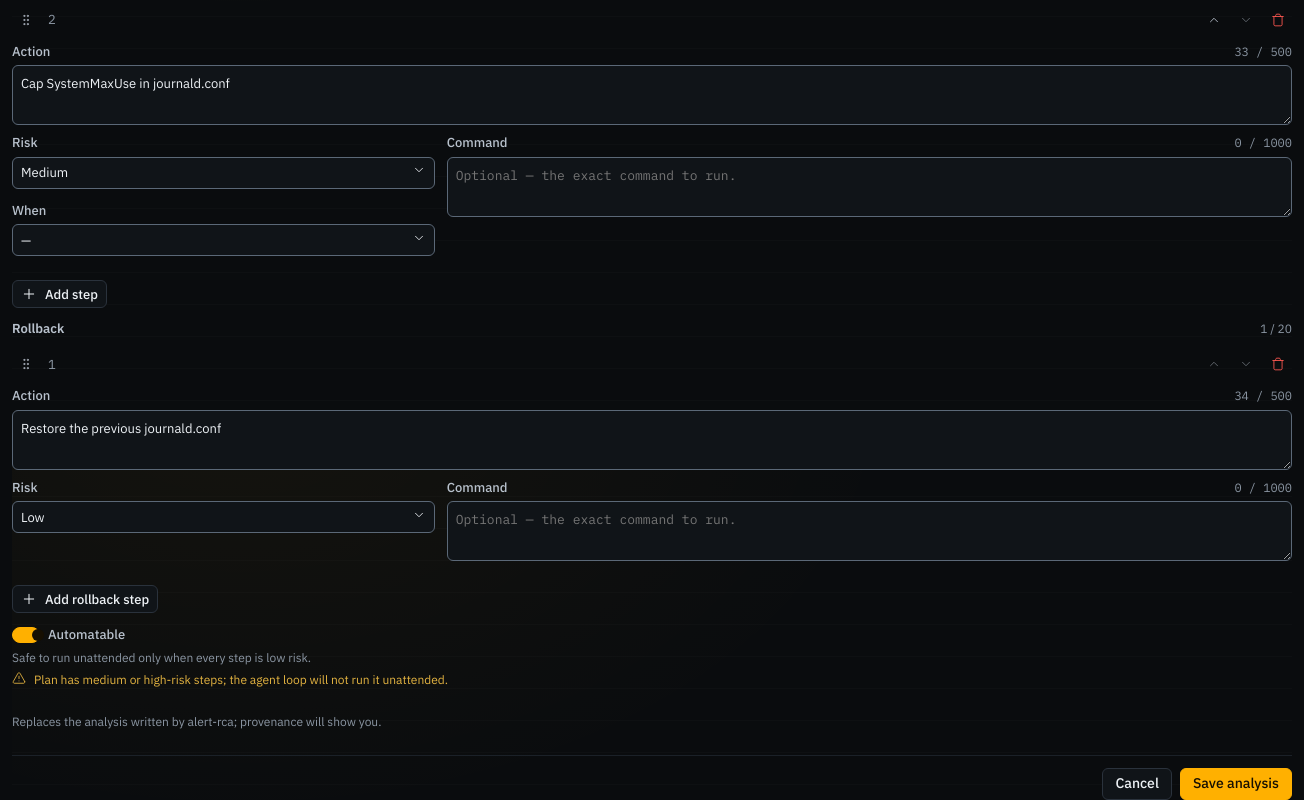
Scenario: AnalysisEditor › names a deleted alert rather than blaming the form
(page scrolled)
What coordinates should you click on to do the following:
click the button "Save analysis"
I would click on:
 (1236, 784)
Its box is x1=1180 y1=768 x2=1292 y2=799.
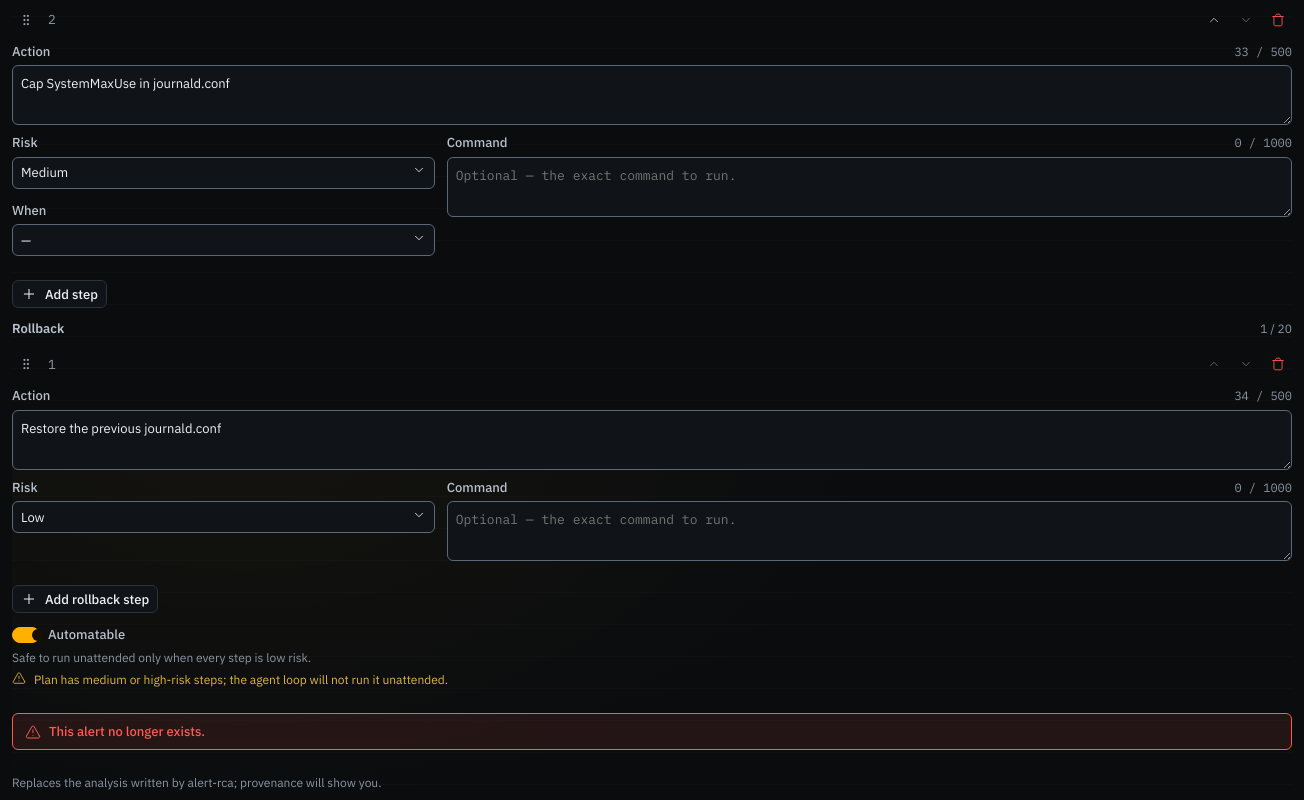
Expected: the text "This alert no longer exists." is shown, x1=49 y1=722 x2=205 y2=741
